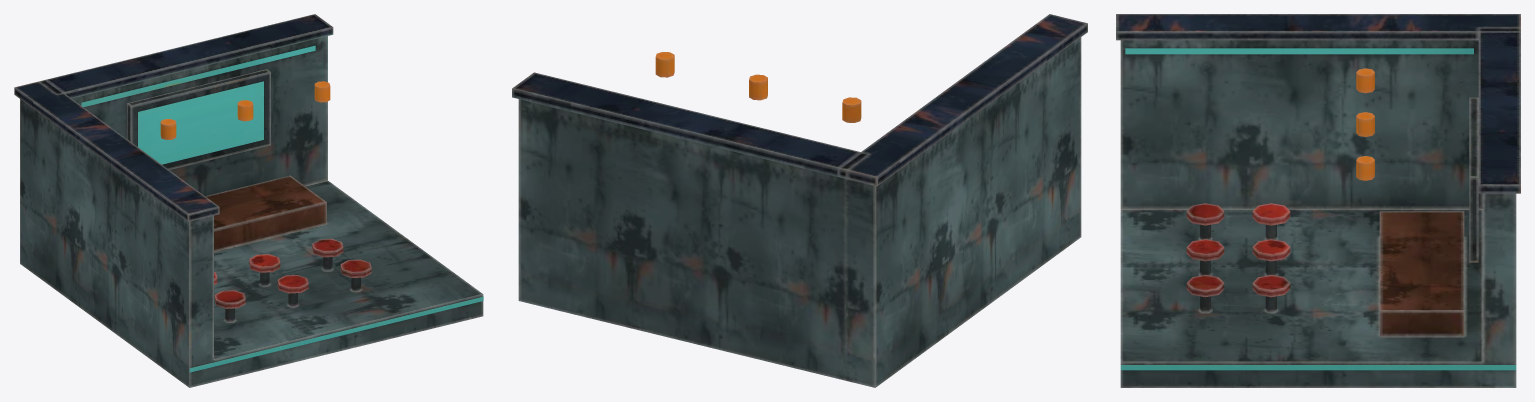
Rendered from experience_arena.glb.
The picture shows the model from 3 angles, left to right: view 1: azimuth 30°, elevation 25°; view 2: azimuth 150°, elevation 25°; view 3: azimuth 270°, elevation 25°; orthographic projection. The views are drawn at different scales.
Visible parts, largest first — view 1: te_experience_arena; view 2: te_experience_arena; view 3: te_experience_arena.
Part boxes in pixels (left/top/right/bottom): te_experience_arena: left=14, top=14, right=483, bottom=387; te_experience_arena: left=512, top=14, right=1087, bottom=387; te_experience_arena: left=1116, top=14, right=1520, bottom=387.
Size of the model in its own units: 0.86 by 0.48 by 0.86.
Materials: 1 (1 with a texture image).
